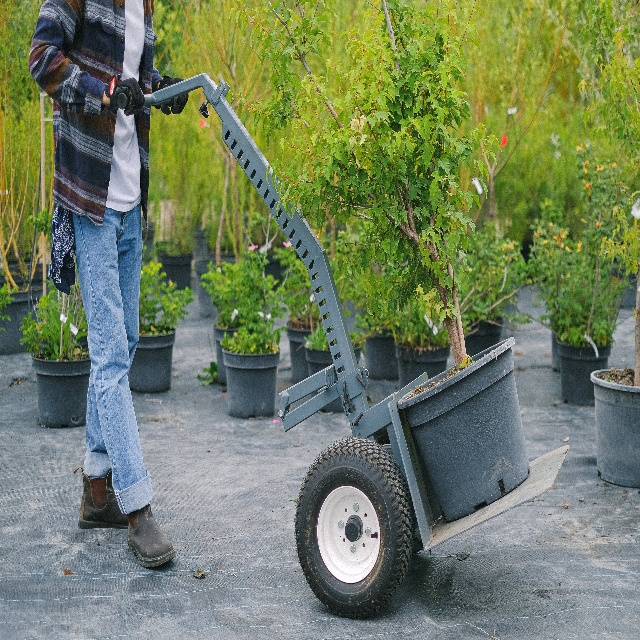Guantes: (104, 76, 145, 117), (158, 74, 188, 114)
